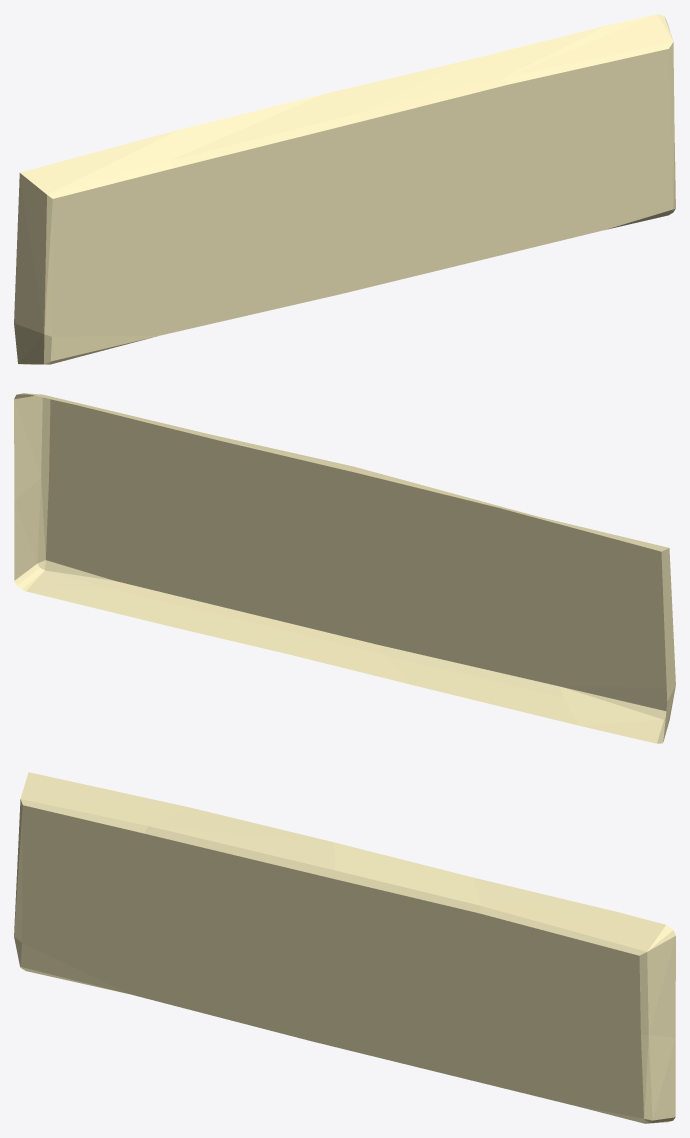
File: ui_button_favor_10x3.glb
The picture shows the model from 3 angles, top to bottom: view 1: azimuth 30°, elevation 25°; view 2: azimuth 150°, elevation 25°; view 3: azimuth 330°, elevation 25°; orthographic projection.
Parts seen in each view (by area): view 1: Cube; view 2: Cube; view 3: Cube.
Boxes of the visible parts, left/top/right/bottom form: Cube: left=14, top=14, right=675, bottom=364; Cube: left=14, top=393, right=675, bottom=743; Cube: left=14, top=772, right=675, bottom=1123.
Bounding box in the file's own units: 1.88 × 0.5481 × 0.0977.
